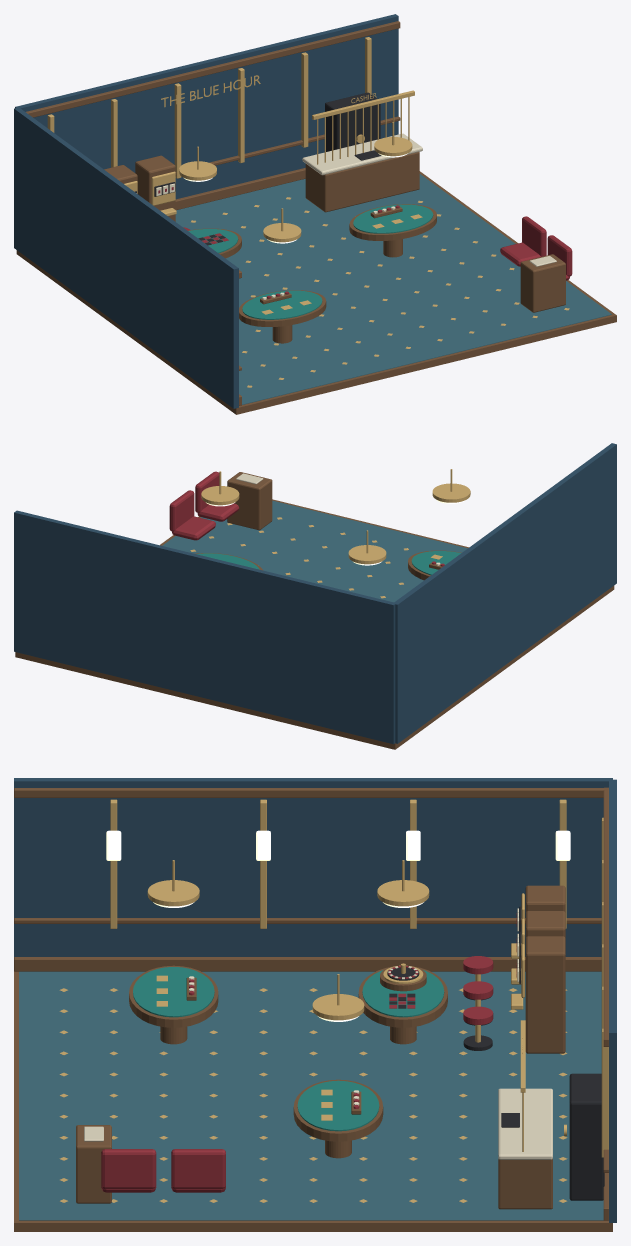
Rendered from interior-blue-hour.glb.
The picture shows the model from 3 angles, top to bottom: view 1: azimuth 30°, elevation 25°; view 2: azimuth 150°, elevation 25°; view 3: azimuth 270°, elevation 25°; orthographic projection. The views are drawn at different scales.
Visible parts, largest first — view 1: casino carpet, left wall, rear wall, casino foundation, carpet diamond, rear moulding, roulette felt, deco rear pier, vault cabinet, roulette pocket.001, cashier marble ledge; view 2: rear wall, left wall, casino carpet, casino foundation, roulette pocket.001, carpet diamond, roulette felt; view 3: casino carpet, left wall, casino foundation, left moulding, carpet diamond, roulette felt, roulette pocket.001, vault cabinet, cashier marble ledge, rear wall, deco side pier, rear moulding (+3 smaller).
Boxes of the visible parts, x1,y1,x2,y2 form: casino carpet: (175, 174, 611, 404); left wall: (14, 108, 238, 408); rear wall: (15, 14, 398, 199); casino foundation: (16, 152, 616, 414); carpet diamond: (124, 90, 569, 387); rear moulding: (26, 21, 400, 210); roulette felt: (188, 204, 433, 319); deco rear pier: (47, 37, 371, 178); vault cabinet: (325, 92, 380, 151); roulette pocket.001: (158, 187, 572, 298); cashier marble ledge: (302, 133, 556, 266); rear wall: (14, 510, 396, 744); left wall: (394, 443, 616, 743); casino carpet: (162, 500, 467, 602); casino foundation: (15, 472, 614, 749); roulette pocket.001: (169, 471, 444, 566); carpet diamond: (190, 469, 470, 598); roulette felt: (197, 551, 461, 575); casino carpet: (19, 971, 603, 1220); left wall: (14, 778, 612, 956); casino foundation: (14, 885, 612, 1231); left moulding: (14, 788, 608, 971); carpet diamond: (59, 860, 567, 1202); roulette felt: (133, 967, 444, 1131); roulette pocket.001: (101, 913, 516, 1192); vault cabinet: (569, 1073, 604, 1200); cashier marble ledge: (84, 1088, 552, 1159); rear wall: (609, 779, 616, 1222); deco side pier: (110, 799, 566, 928); rear moulding: (603, 787, 608, 1220).
Bounding box in the file's own units: 12.08 × 4.4 × 12.08.
